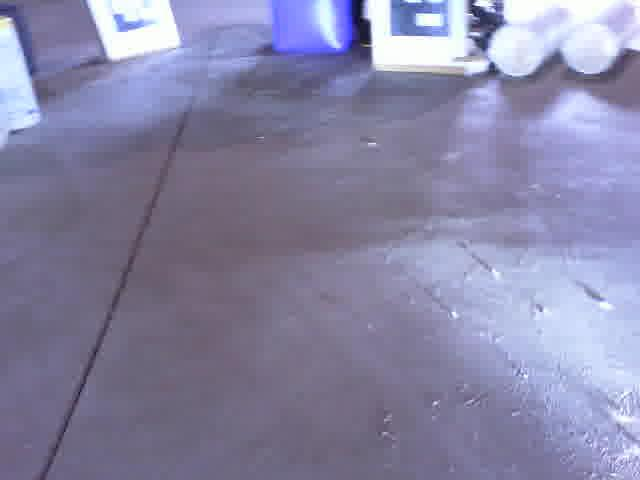coral: (488, 4, 578, 75), (563, 0, 640, 75)
